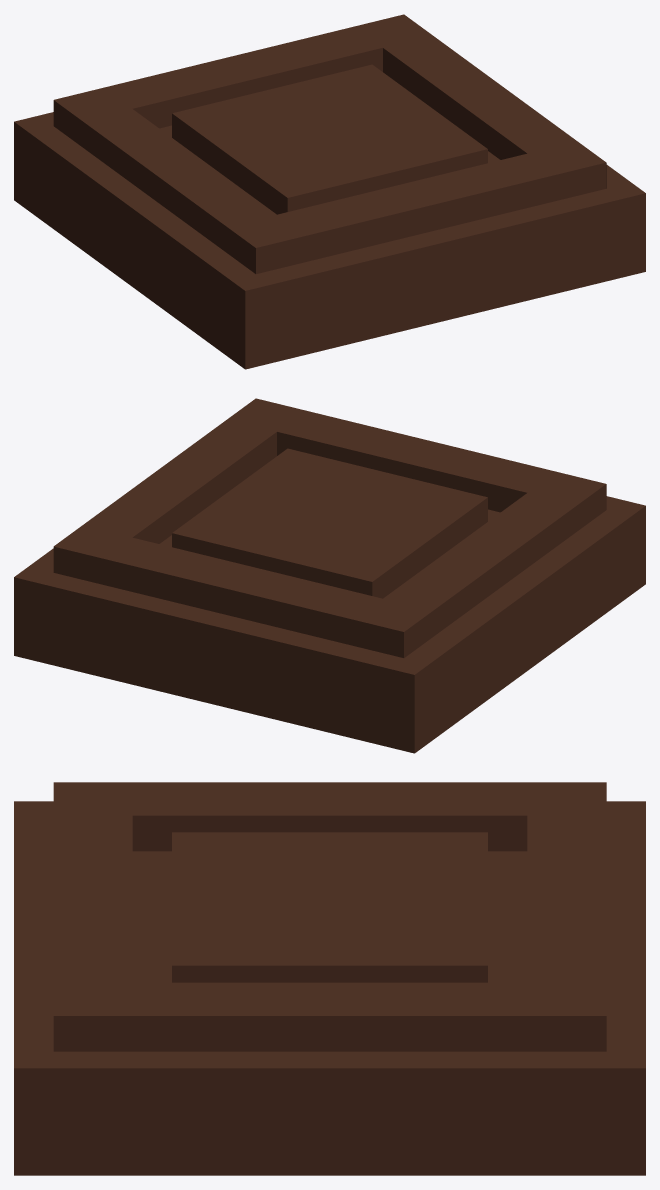
File: man-v1-brown.gltf
3 views of the same model, one above another, from view 1: azimuth 30°, elevation 25°; view 2: azimuth 150°, elevation 25°; view 3: azimuth 270°, elevation 25° (orthographic). The views are drawn at different scales.
Parts seen in each view (by area): view 1: Untitled; view 2: Untitled; view 3: Untitled.
Part boxes in pixels (x1,y1,x2,y2): Untitled: [14, 14, 645, 369]; Untitled: [14, 398, 645, 753]; Untitled: [14, 782, 645, 1175].
Size of the model in its own units: 1.6 by 0.4 by 1.6.
1 material, 1 textured.
